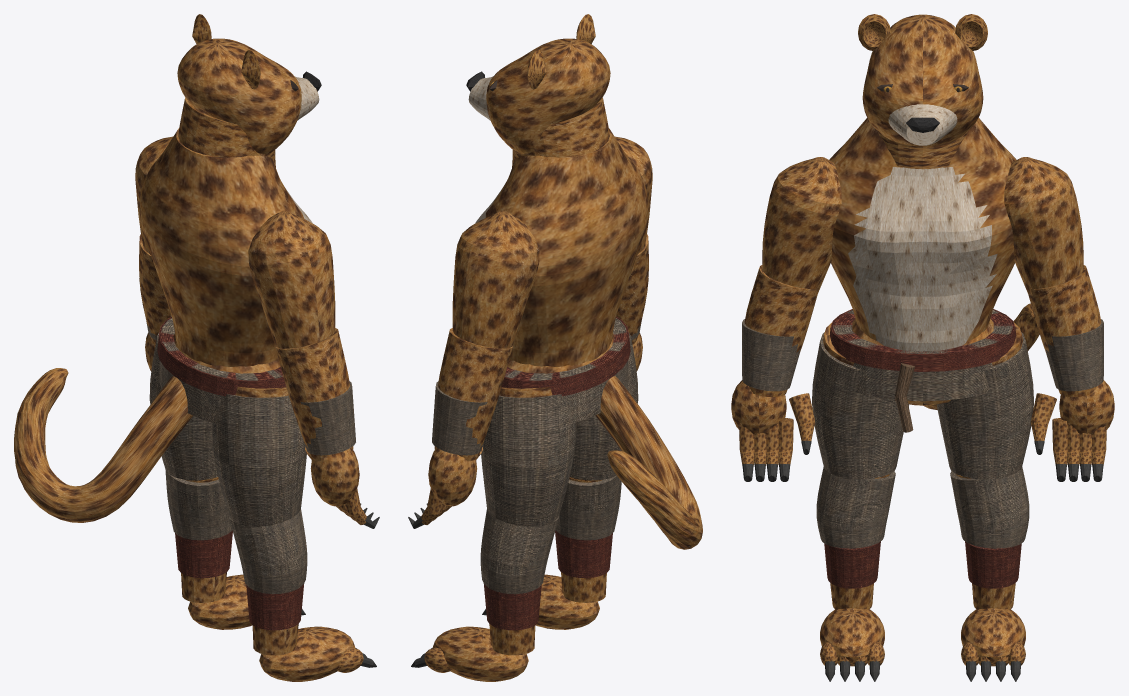
Rendered from uturunco.obj.
The picture shows the model from 3 angles, left to right: view 1: azimuth 30°, elevation 25°; view 2: azimuth 150°, elevation 25°; view 3: azimuth 270°, elevation 25°; orthographic projection.
Visible parts, largest first — view 1: torso_fur, head_fur, tail_fur, right_thigh_cloth, right_upper_fur, right_shin_cloth, right_fore_fur, right_foot_fur, left_shin_cloth, left_thigh_cloth, right_hand_fur, pelvis_wrap (+11 smaller); view 2: torso_fur, head_fur, left_thigh_cloth, left_upper_fur, tail_fur, left_shin_cloth, left_fore_fur, left_foot_fur, right_shin_cloth, right_thigh_cloth, left_hand_fur, pelvis_wrap (+12 smaller); view 3: torso_chest, head_fur, torso_fur, left_thigh_cloth, right_thigh_cloth, right_upper_fur, left_upper_fur, right_shin_cloth, left_shin_cloth, left_hand_fur, right_hand_fur, pelvis_wrap (+19 smaller).
Boxes of the visible parts, x1,y1,x2,y2 form: torso_fur: (139, 128, 304, 366); head_fur: (177, 14, 301, 167); tail_fur: (14, 368, 192, 522); right_thigh_cloth: (211, 394, 306, 527); right_upper_fur: (248, 211, 335, 348); right_shin_cloth: (229, 509, 307, 594); right_fore_fur: (275, 328, 353, 461); right_foot_fur: (259, 626, 363, 681); left_shin_cloth: (165, 470, 232, 540); left_thigh_cloth: (149, 332, 217, 480); right_hand_fur: (305, 446, 366, 524); pelvis_wrap: (157, 316, 286, 396); torso_fur: (480, 128, 648, 366); head_fur: (486, 14, 610, 167); left_thigh_cloth: (481, 394, 576, 527); left_upper_fur: (452, 211, 539, 348); tail_fur: (595, 376, 702, 549); left_shin_cloth: (480, 509, 558, 594); left_fore_fur: (434, 328, 512, 461); left_foot_fur: (424, 626, 528, 681); right_shin_cloth: (555, 475, 621, 540); right_thigh_cloth: (570, 332, 638, 480); left_hand_fur: (421, 446, 482, 524); pelvis_wrap: (501, 316, 630, 396); torso_chest: (848, 167, 997, 350); head_fur: (858, 14, 987, 169); torso_fur: (829, 117, 1016, 342); left_thigh_cloth: (936, 332, 1033, 479); right_thigh_cloth: (812, 332, 909, 479); right_upper_fur: (762, 157, 841, 294); left_upper_fur: (1004, 157, 1083, 294); right_shin_cloth: (816, 466, 895, 548); left_shin_cloth: (950, 466, 1029, 548); left_hand_fur: (1030, 380, 1114, 465); right_hand_fur: (731, 380, 815, 465); pelvis_wrap: (829, 309, 1016, 371).
Bounding box in the file's own units: 45.46 × 100 × 55.87.
Materials: 2 (2 with a texture image).
